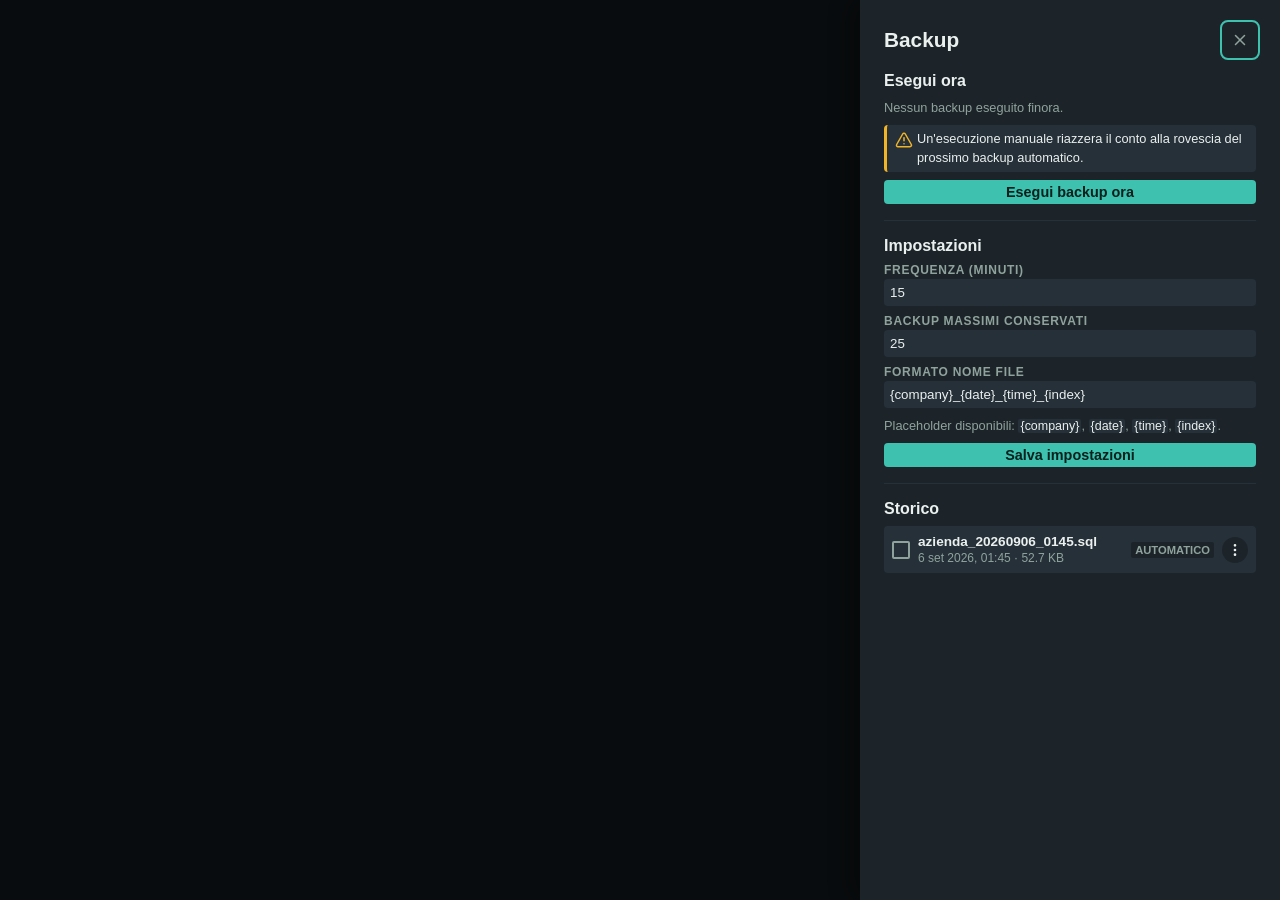
Test: BackupSettingsDrawerComponent - selezione storico › seleziona un backup cliccando ovunque sulla card, non solo sul quadratino
Click the text "azienda_20260906_0145.sql": click(1021, 542) [918, 534, 1123, 549]
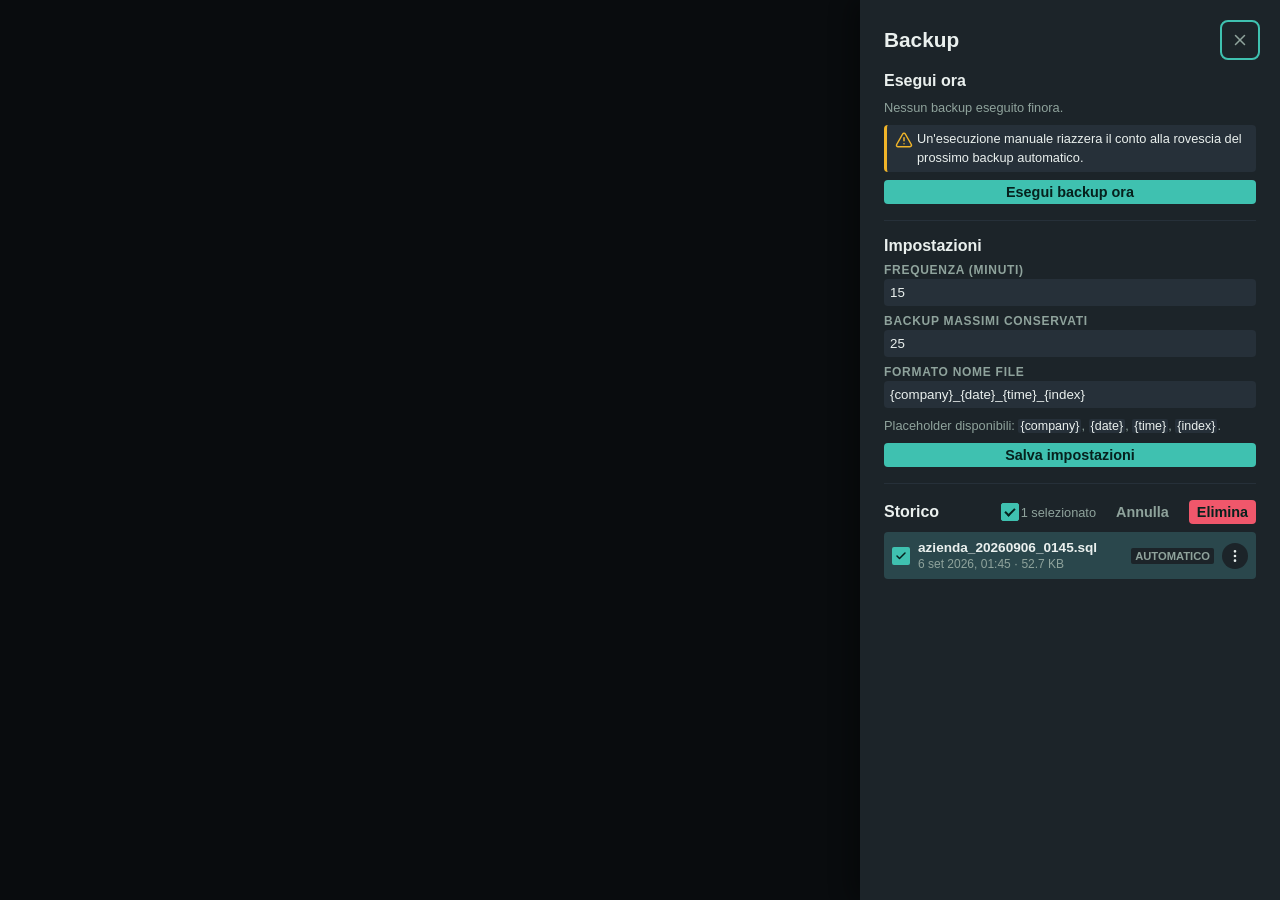
Result: the text "1 selezionato" is shown at [1021, 505, 1096, 520]
